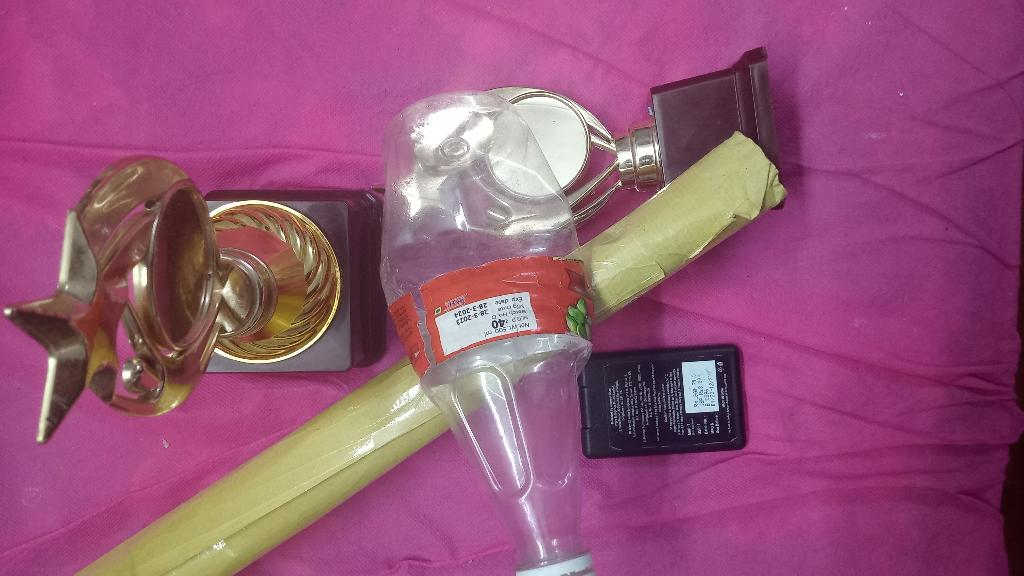garbage: (374, 92, 626, 576)
